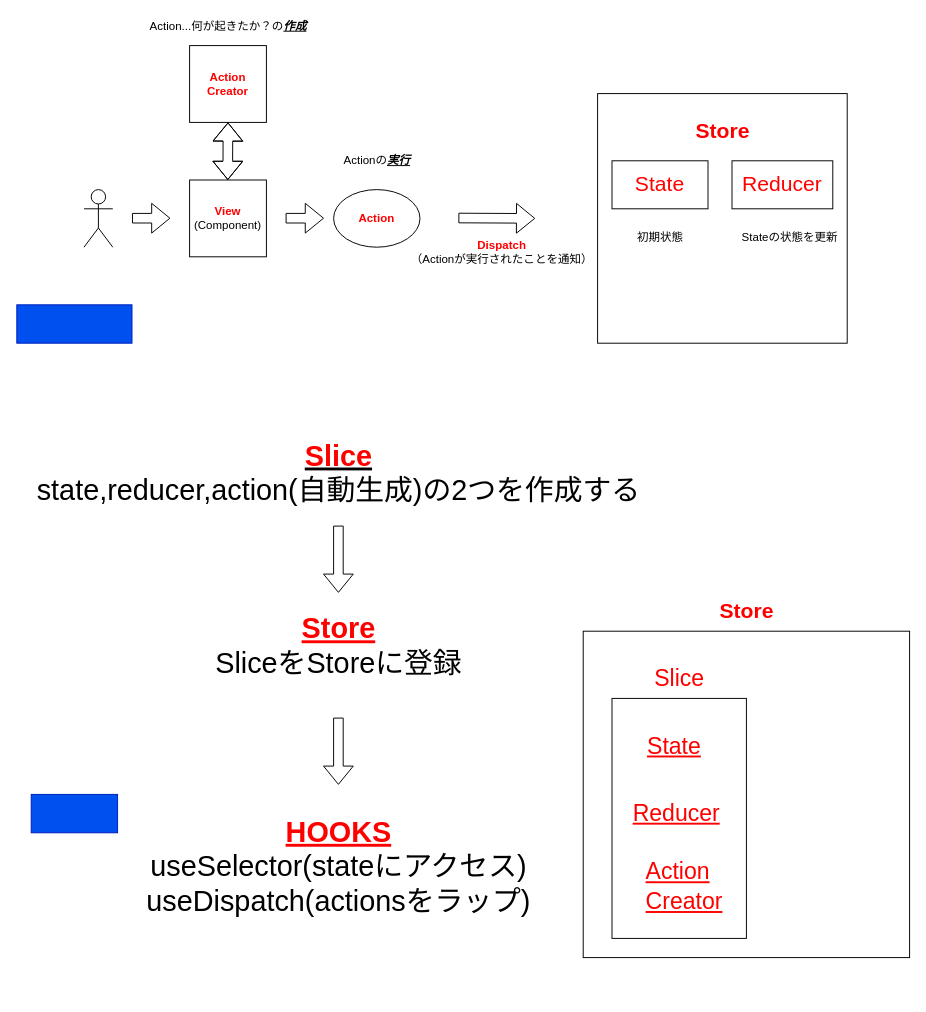
Some shapes in this 926 by 1012 pixel diagram are drawn without their labels. The centre of each missing label's shape, as x and y in pixels:
"Redux" belongs at (x=74, y=323).
"RTK" belongs at (x=74, y=813).
"User Input" belongs at (x=98, y=218).
